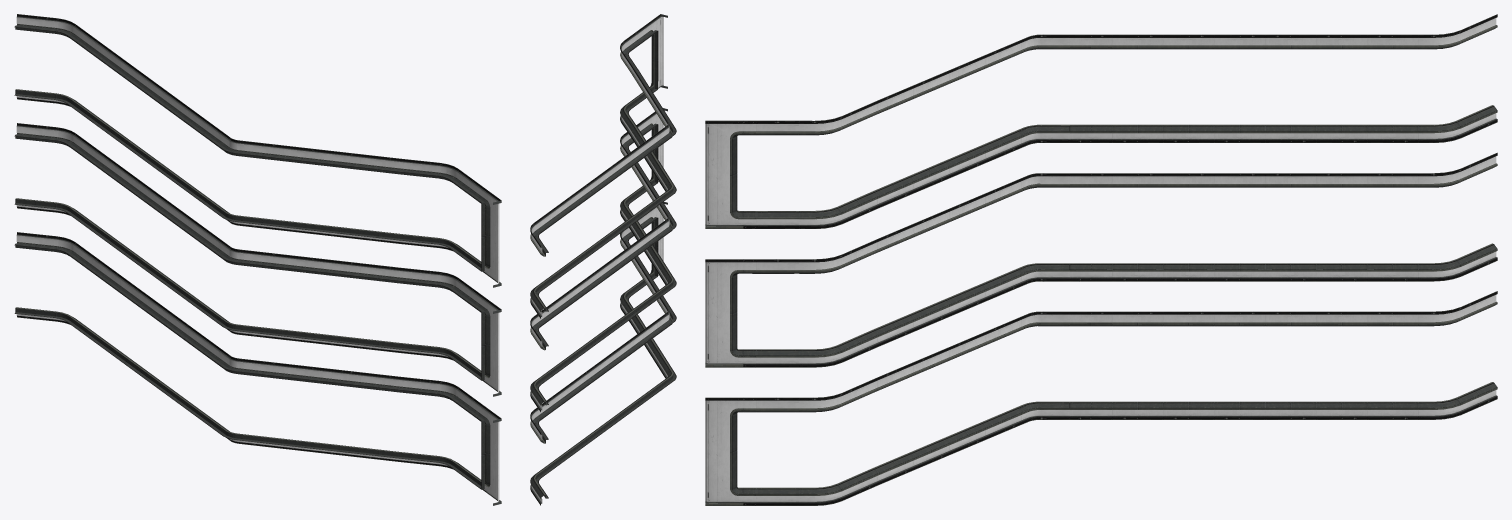
The model's file is RearlFAC_Win00.FBX.
3 renders of one model, left to right at view 1: azimuth 30°, elevation 25°; view 2: azimuth 150°, elevation 25°; view 3: azimuth 270°, elevation 25°, orthographic. The views are drawn at different scales.
Visible parts, largest first — view 1: RearlFAC_Win00; view 2: RearlFAC_Win00; view 3: RearlFAC_Win00.
Part boxes in pixels (box(x1,y1,x2,y2)): RearlFAC_Win00: box(14, 14, 501, 505); RearlFAC_Win00: box(530, 14, 676, 505); RearlFAC_Win00: box(705, 14, 1497, 505).
Size of the model in its own units: 10.28 by 16.7 by 31.14.
